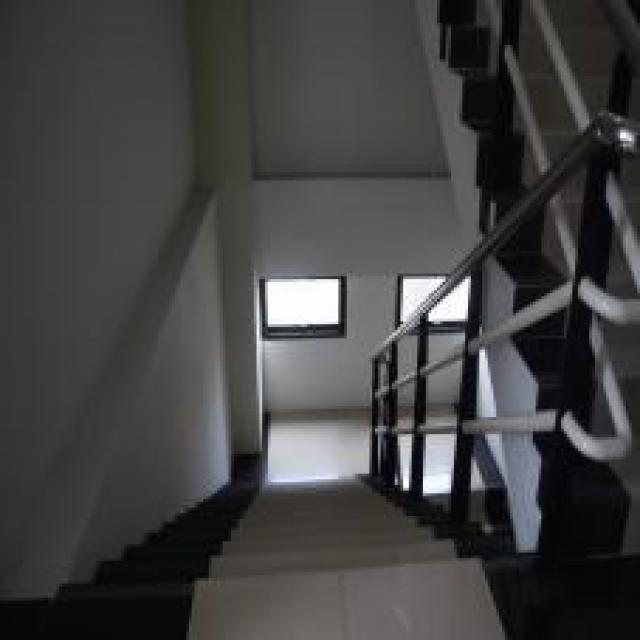downstair: (156, 435, 449, 638)
